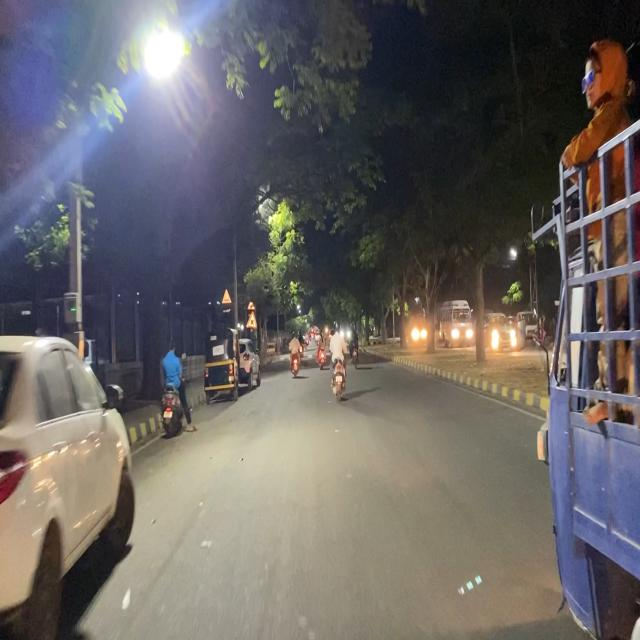bien_cam: (246, 310, 258, 330), (222, 288, 231, 306)
